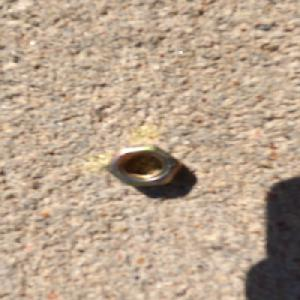Nut: (102, 142, 185, 190)
